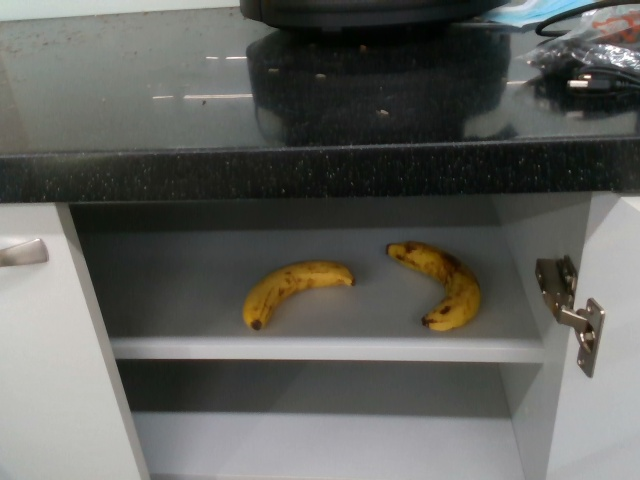banana: (382, 238, 483, 335), (241, 257, 353, 333)
